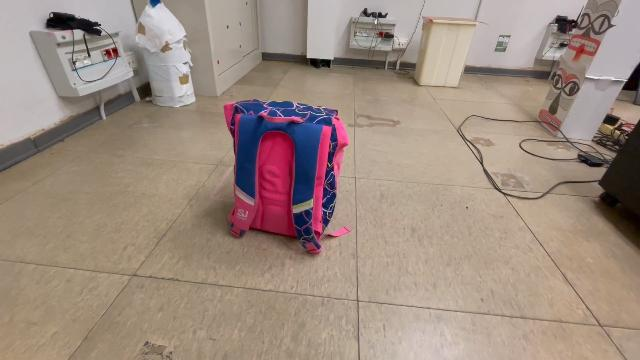Backpack: (218, 93, 352, 258)
